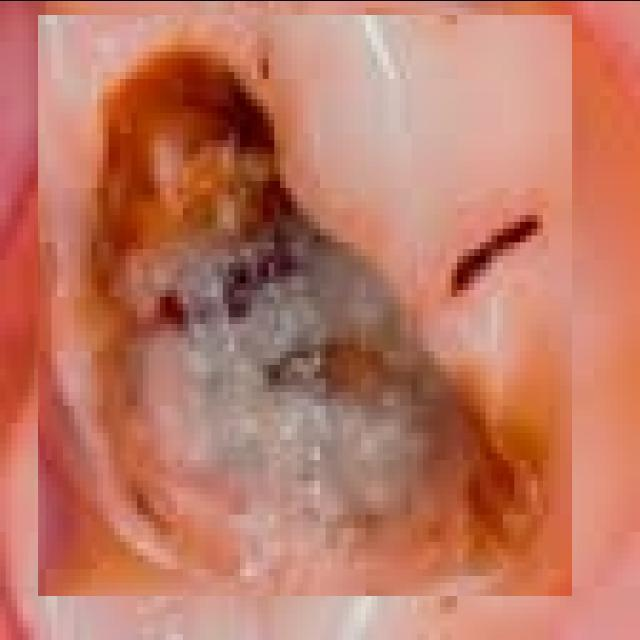decay: (38, 14, 572, 595)
